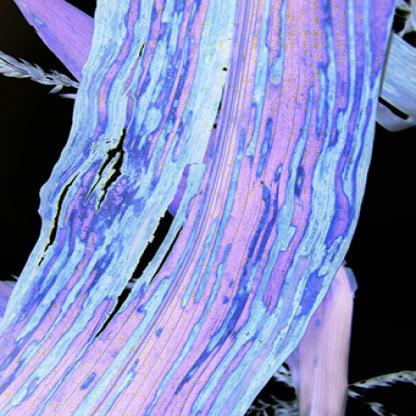Corn leaf blight: (7, 4, 406, 415)
